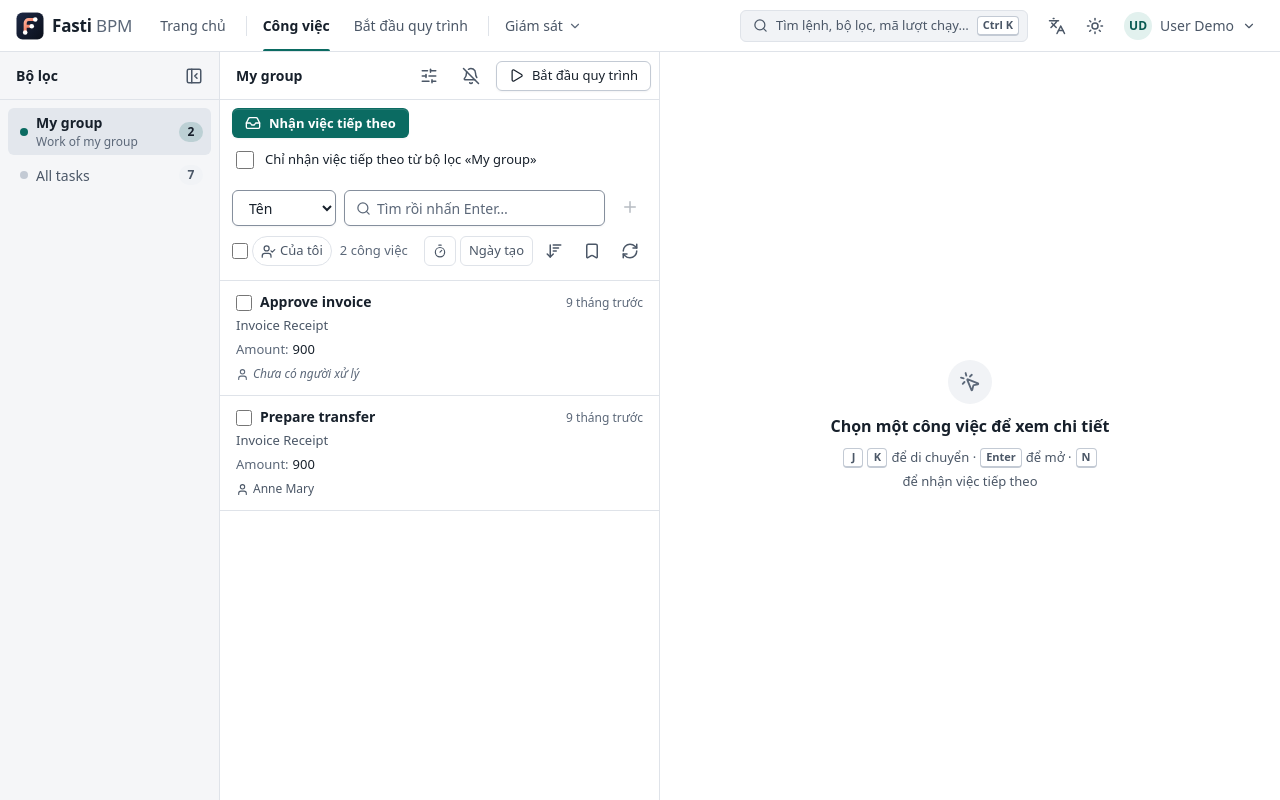
Test case: shell › is Vietnamese first and switches to English
The image size is (1280, 800).
Check: the link "Công việc" is shown, box [251,0,342,51]
Click the button named "Ngôn ngữ".
click(1057, 26)  # box [1040,8,1074,42]
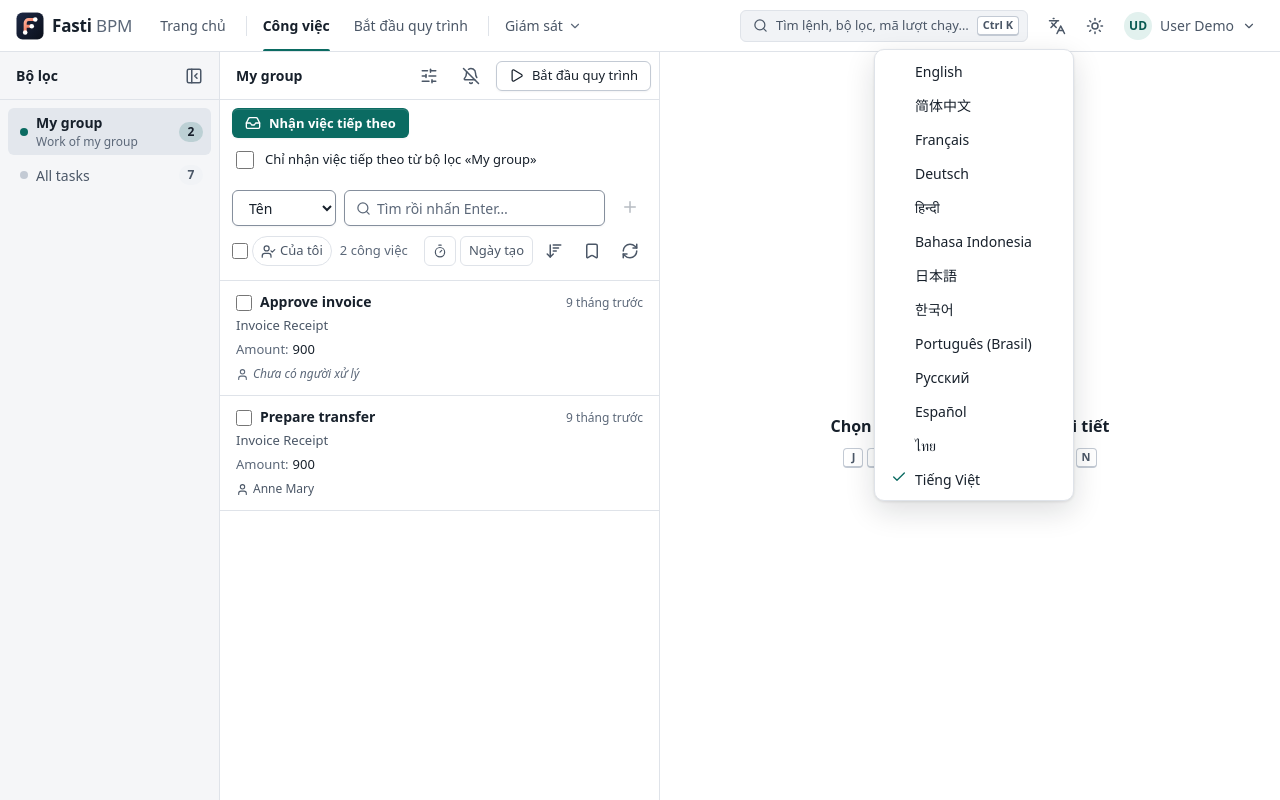
Click the menu item "English".
click(939, 71)  # box [915,62,963,80]
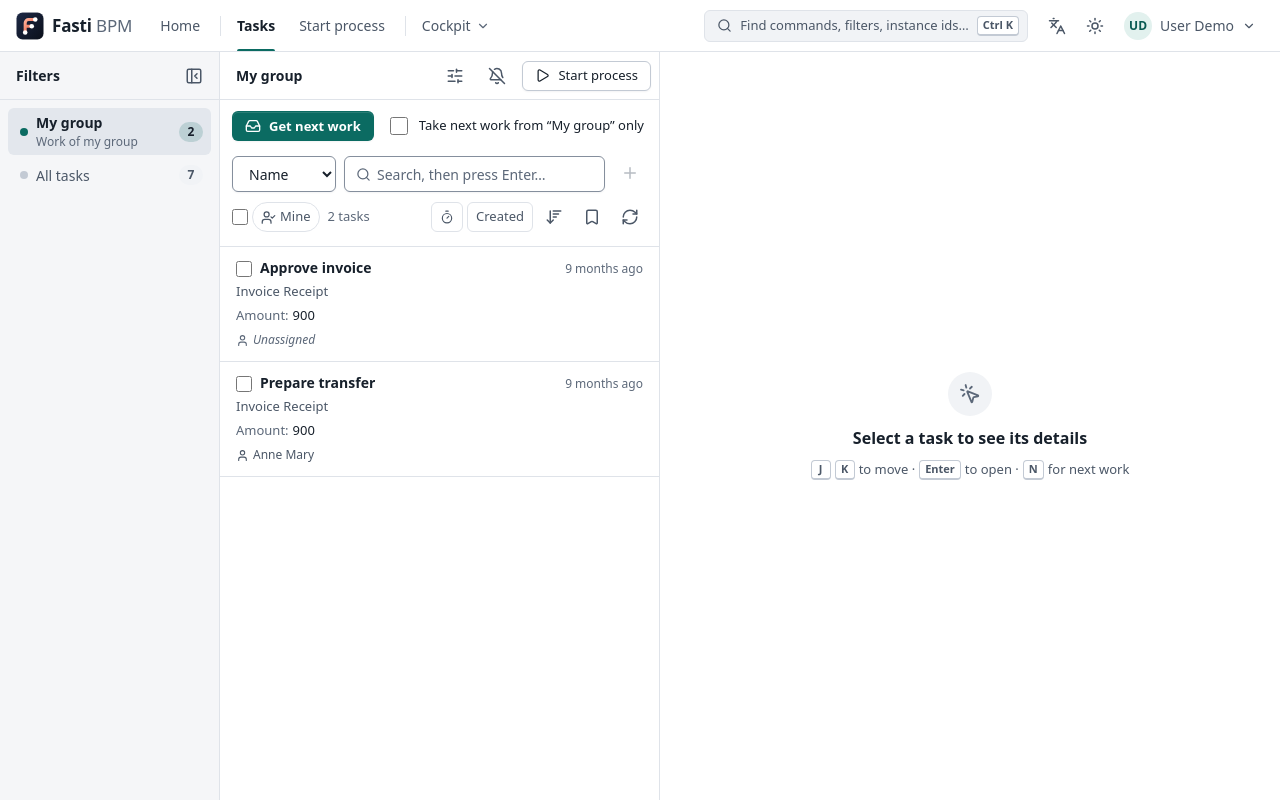
Check: the link "Tasks" is shown, box [225,0,287,51]
